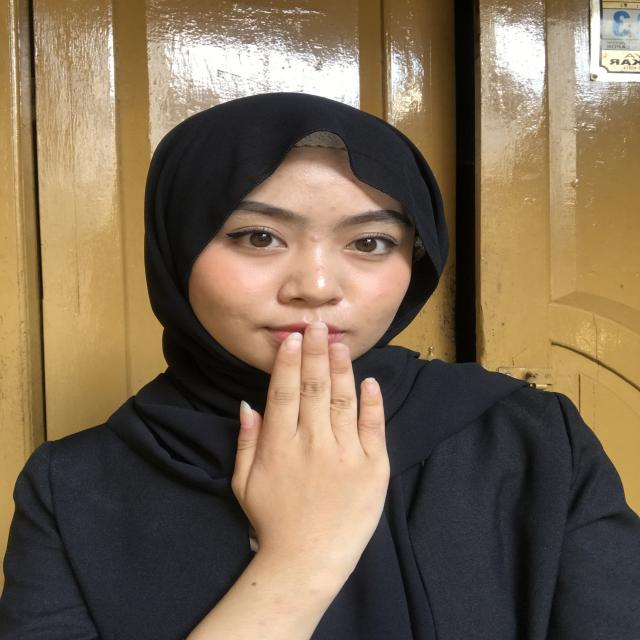ganteng: (210, 308, 412, 546)
